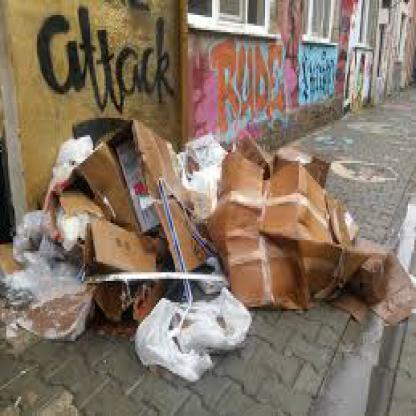Garbage: (54, 141, 250, 334), (66, 143, 246, 322), (220, 160, 318, 306), (2, 210, 107, 341), (225, 251, 414, 309), (134, 298, 256, 380)
